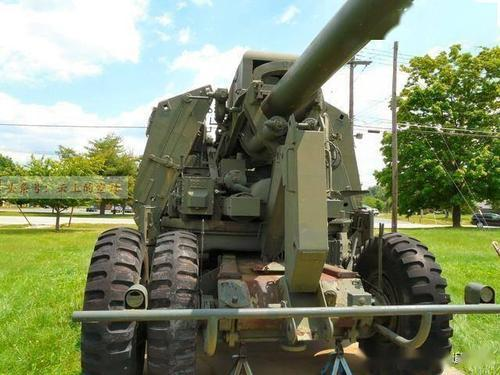MIL_SPG: (79, 0, 452, 374)
